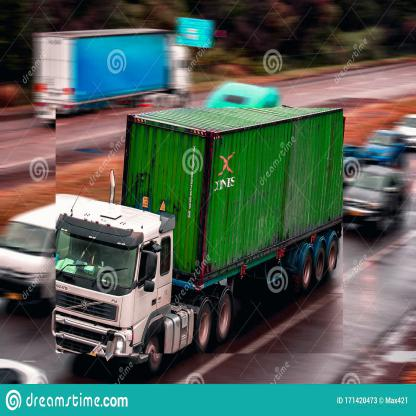container: (57, 109, 344, 355)
